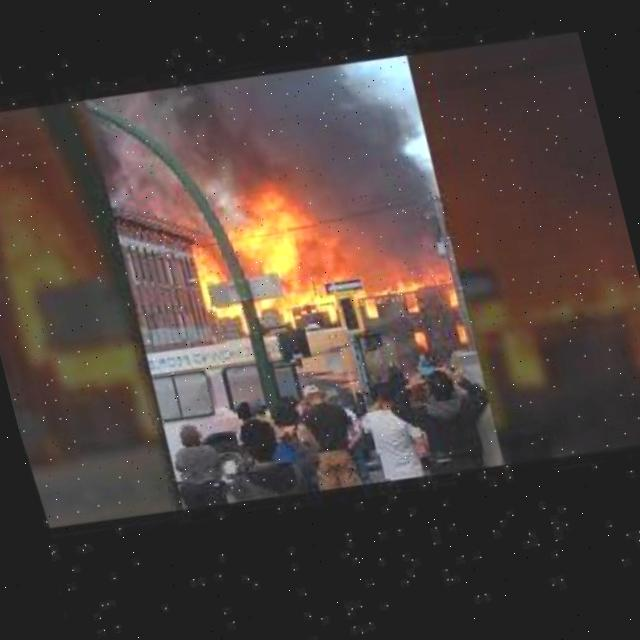fire: (173, 176, 459, 368), (276, 39, 468, 291), (118, 52, 326, 236), (442, 315, 469, 349), (400, 326, 428, 357)
